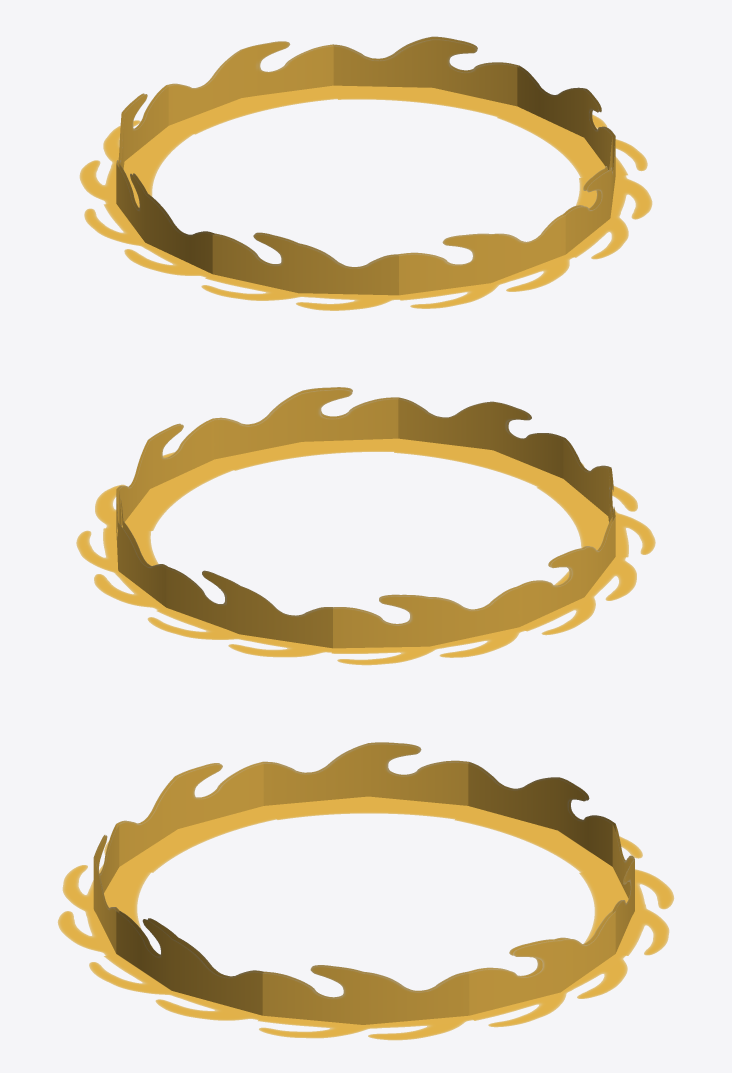
Rendered from Asset_BridgeOFF.fbx.
3 renders of one model, top to bottom at view 1: azimuth 30°, elevation 25°; view 2: azimuth 150°, elevation 25°; view 3: azimuth 270°, elevation 25°, orthographic. The views are drawn at different scales.
Visible parts, largest first — view 1: circle, outerlight, innerlight; view 2: circle, outerlight, innerlight; view 3: circle, innerlight, outerlight.
Boxes of the visible parts, x1,y1,x2,y2 form: circle: (79, 85, 652, 310); outerlight: (116, 36, 615, 295); innerlight: (119, 39, 612, 282); circle: (76, 438, 655, 665); outerlight: (116, 387, 615, 648); innerlight: (119, 389, 612, 634); circle: (57, 796, 674, 1040); innerlight: (94, 743, 634, 998); outerlight: (93, 742, 634, 1024).
Bounding box in the file's own units: 9.24 × 1.09 × 9.24.
